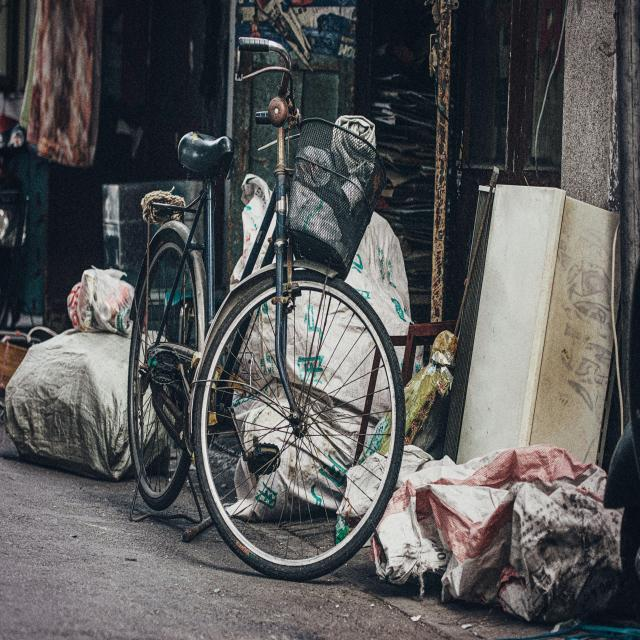trash: (20, 337, 123, 465), (452, 470, 564, 587)
